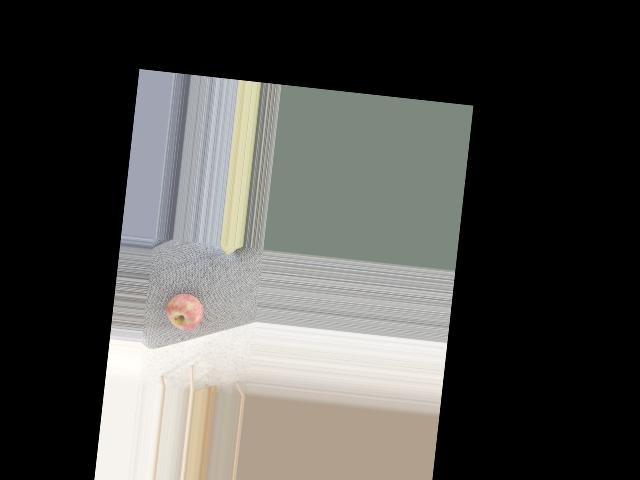apple: (161, 288, 206, 333)
